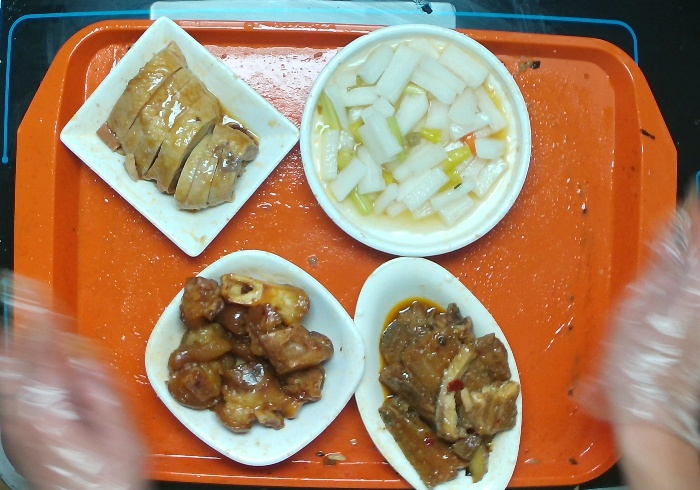HZYJPL-Si_Fang_Die: (62, 20, 304, 255)
HZYJPL-Si_Fang_Yuan_Die: (143, 247, 363, 466)
HZYJPL-Xiao_Yu_Die: (350, 257, 522, 490)
HZYJPL-Xiao_Yuan_Die: (293, 25, 532, 258)
